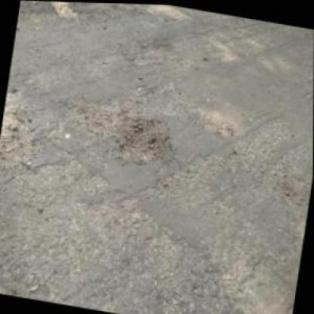Hueco: (117, 111, 181, 170)
